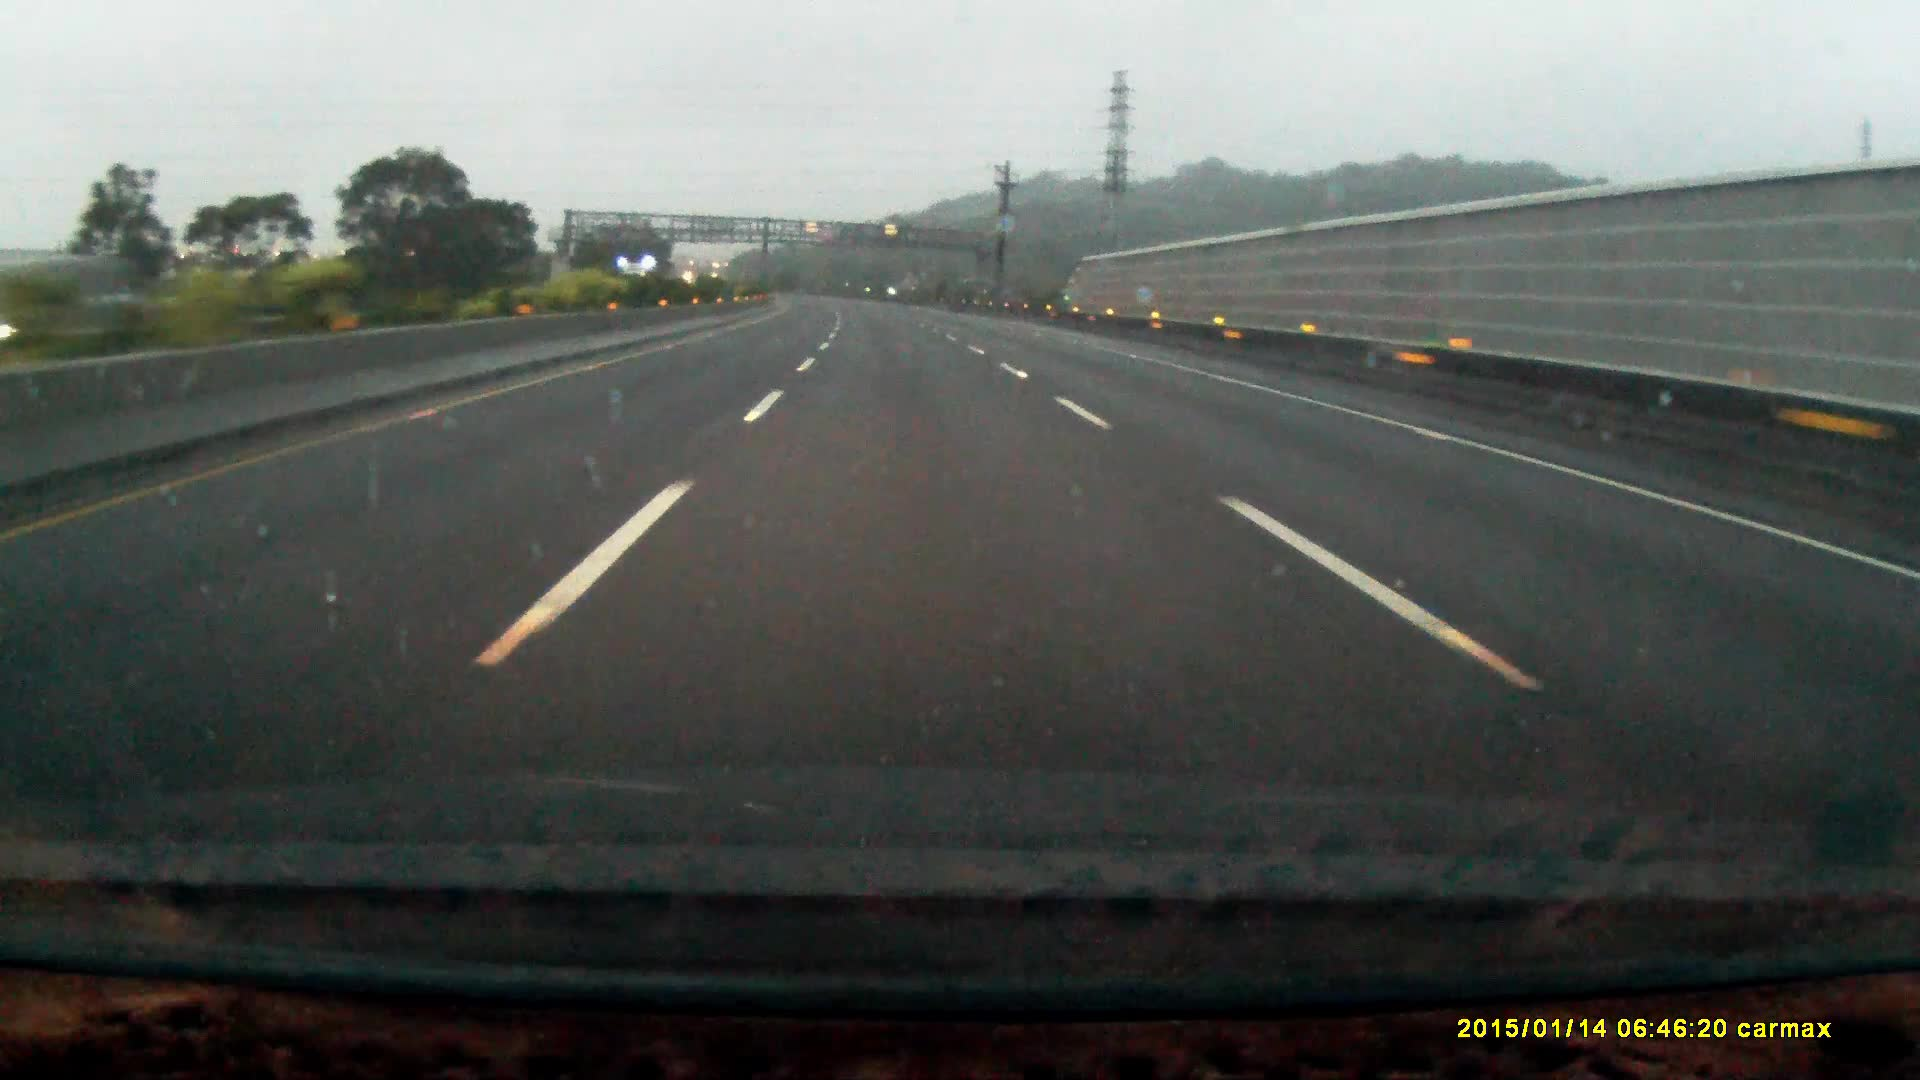vehicle: (618, 261, 662, 310)
